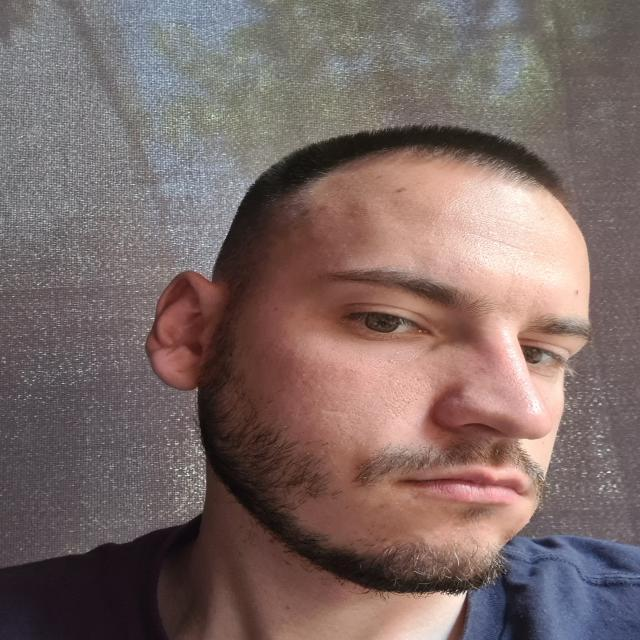pores: (368, 370, 432, 424), (488, 361, 544, 417), (448, 267, 520, 291), (455, 236, 506, 266), (516, 248, 548, 294)
